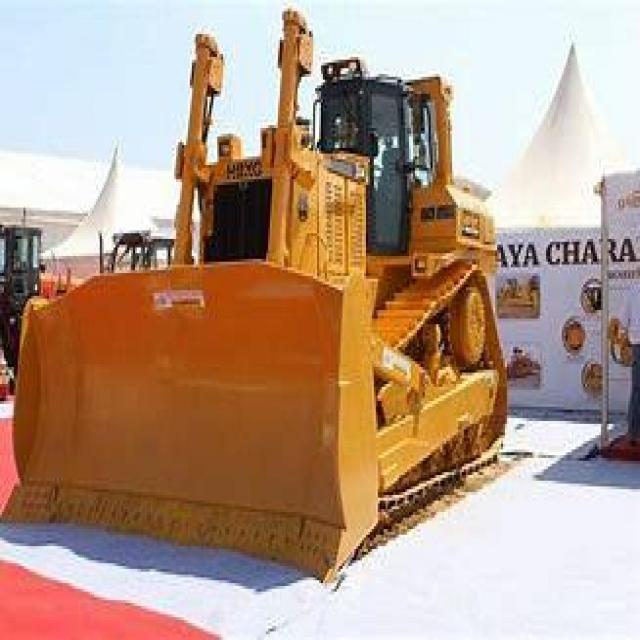Bulldozer: (8, 6, 513, 588)
